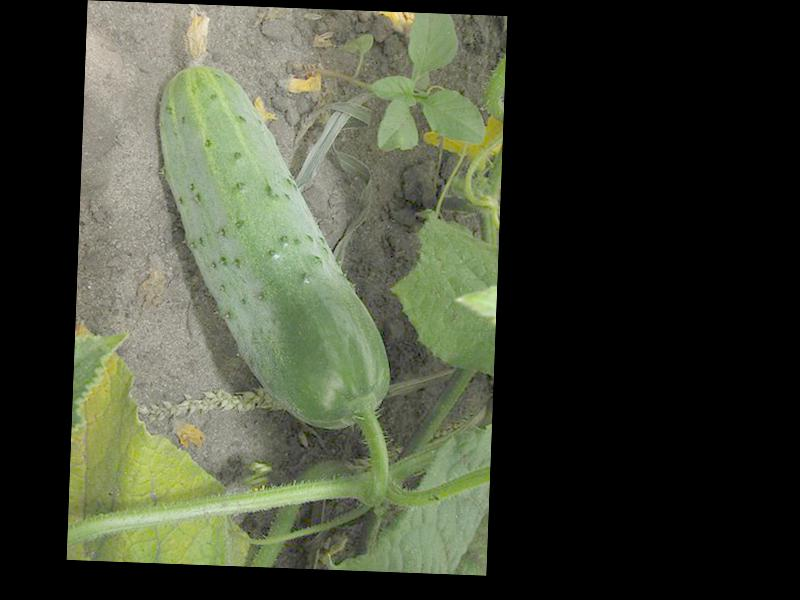Cucumber: (145, 8, 402, 430)
